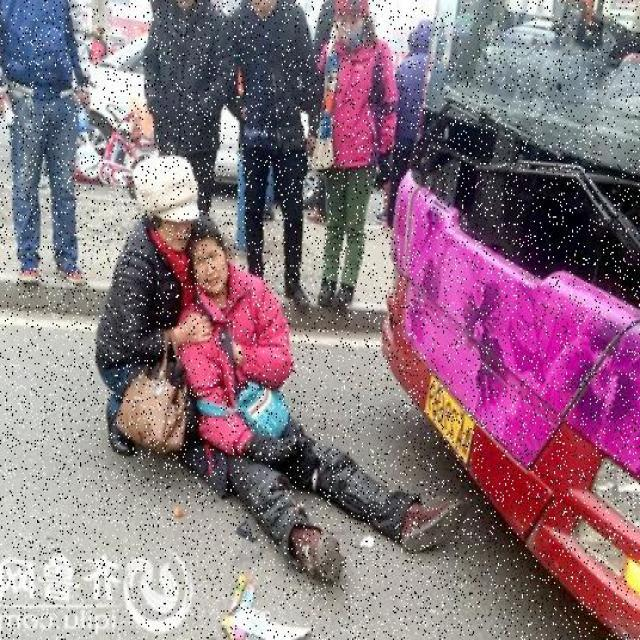fall: (194, 235, 450, 575)
